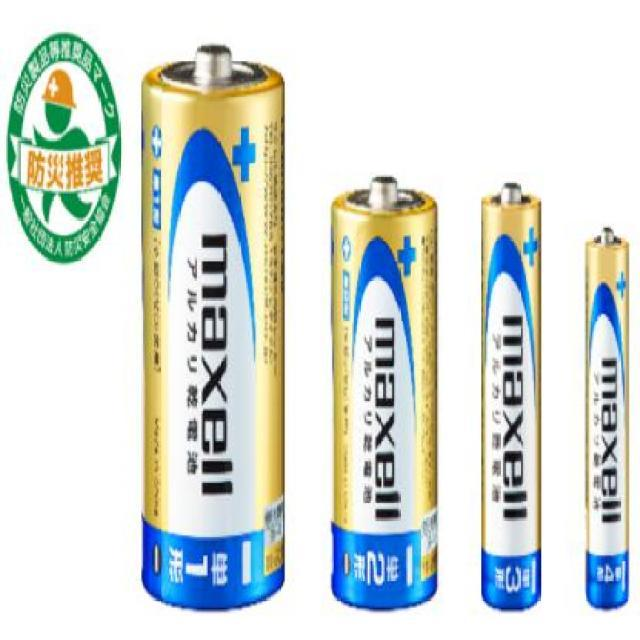hazardous waste: (134, 38, 288, 617), (328, 175, 443, 616), (478, 180, 546, 622), (580, 224, 631, 624)
